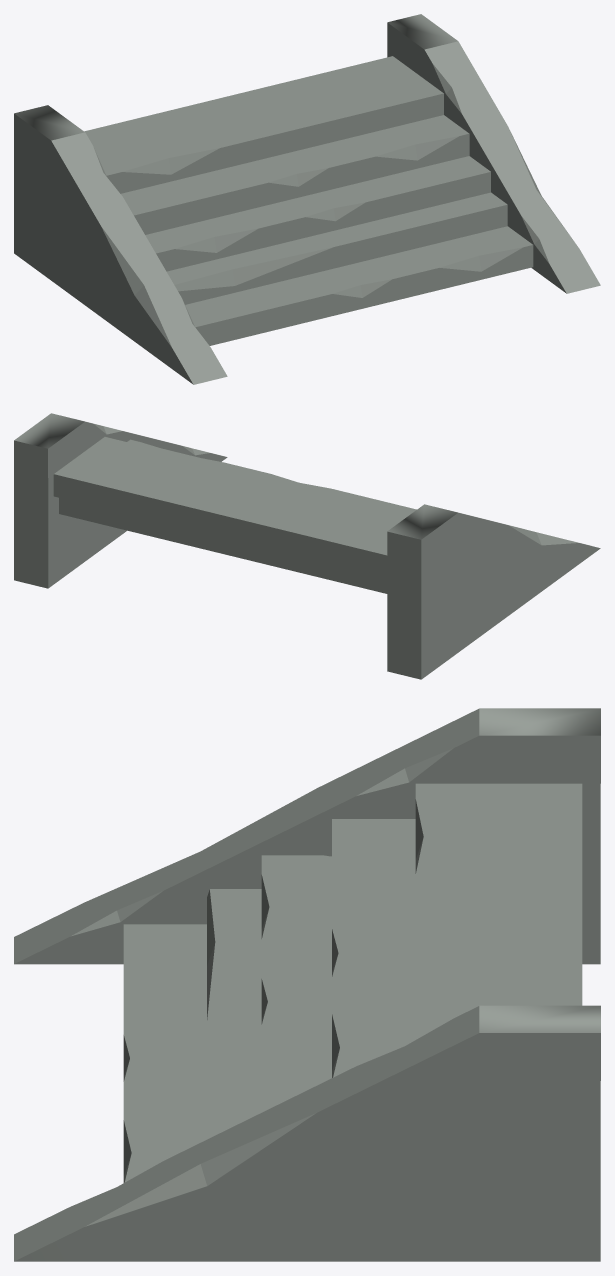
File: SM_Env_Stair_02.fbx
3 renders of one model, top to bottom at view 1: azimuth 30°, elevation 25°; view 2: azimuth 150°, elevation 25°; view 3: azimuth 270°, elevation 25°, orthographic. The views are drawn at different scales.
Visible parts, largest first — view 1: SM_Env_Stair_02; view 2: SM_Env_Stair_02; view 3: SM_Env_Stair_02.
Boxes of the visible parts, <box> form: SM_Env_Stair_02: <box>14,14,600,384</box>; SM_Env_Stair_02: <box>14,413,600,679</box>; SM_Env_Stair_02: <box>14,708,600,1261</box>.
Size of the model in its own units: 138 by 45.28 by 105.
1 material, 1 textured.
